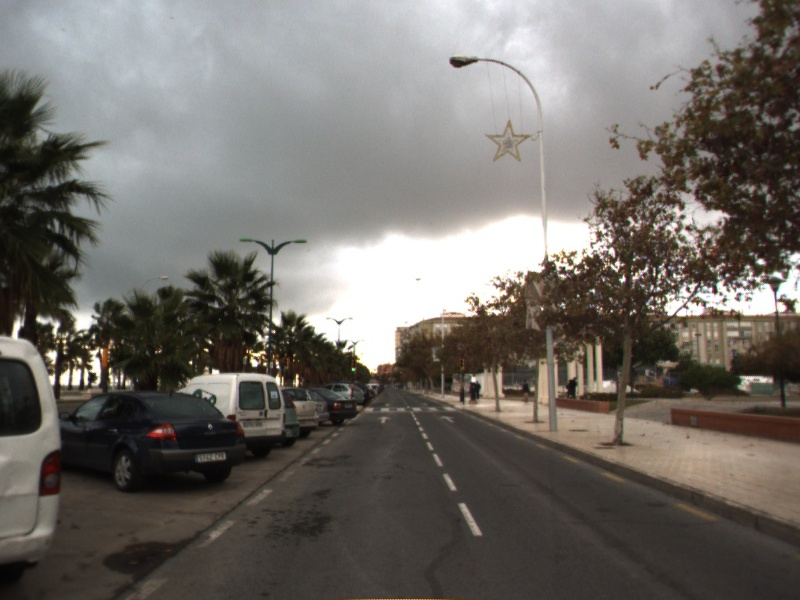STRAIGHT: (438, 414, 458, 424), (376, 414, 393, 425)
